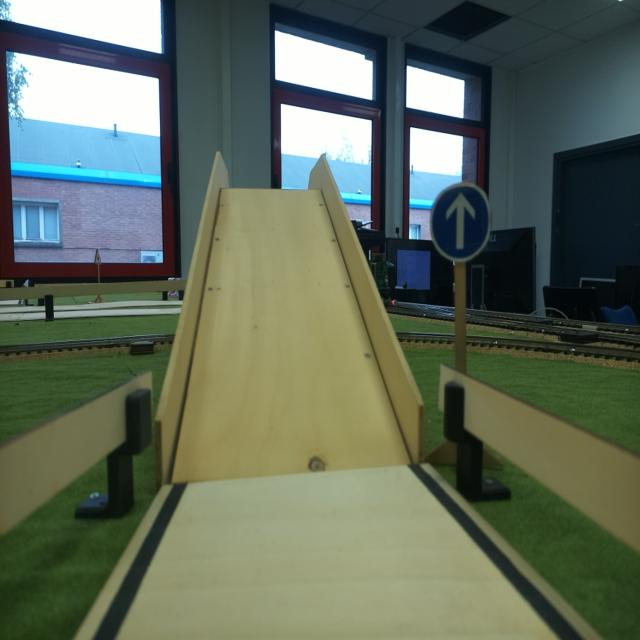panneau_sens_unique: (429, 178, 495, 274)
